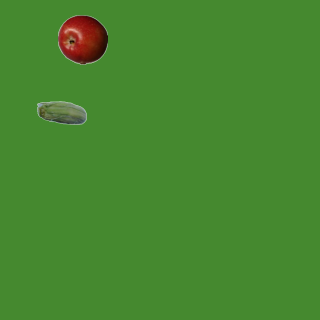Apple Braeburn: (57, 14, 107, 64)
Corn Husk: (36, 89, 86, 139)
